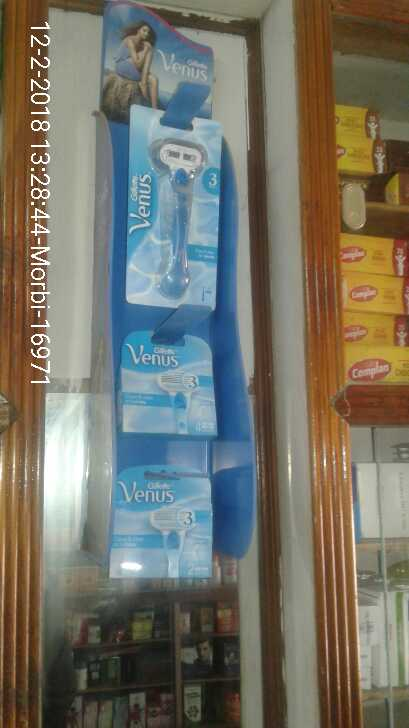venus: (124, 122, 224, 309), (109, 469, 219, 583), (120, 333, 222, 443)
